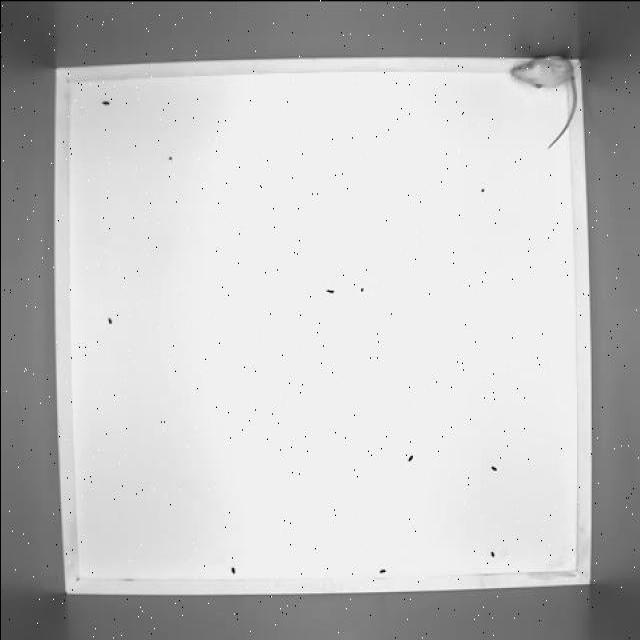rat: (505, 50, 579, 154)
